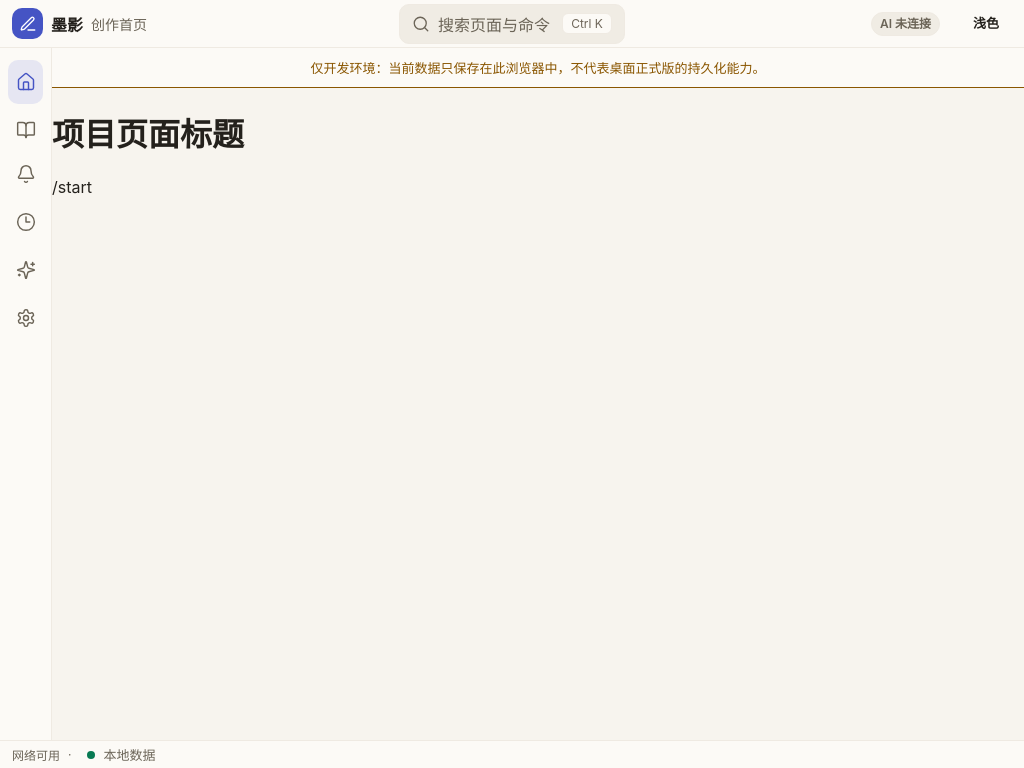
Test case: DesktopShell › labels the appearance switch with both the current and next state
Click the button with aria-label "当前浅色外观，切换到深色外观": x=986, y=24 [960,8,1012,39]
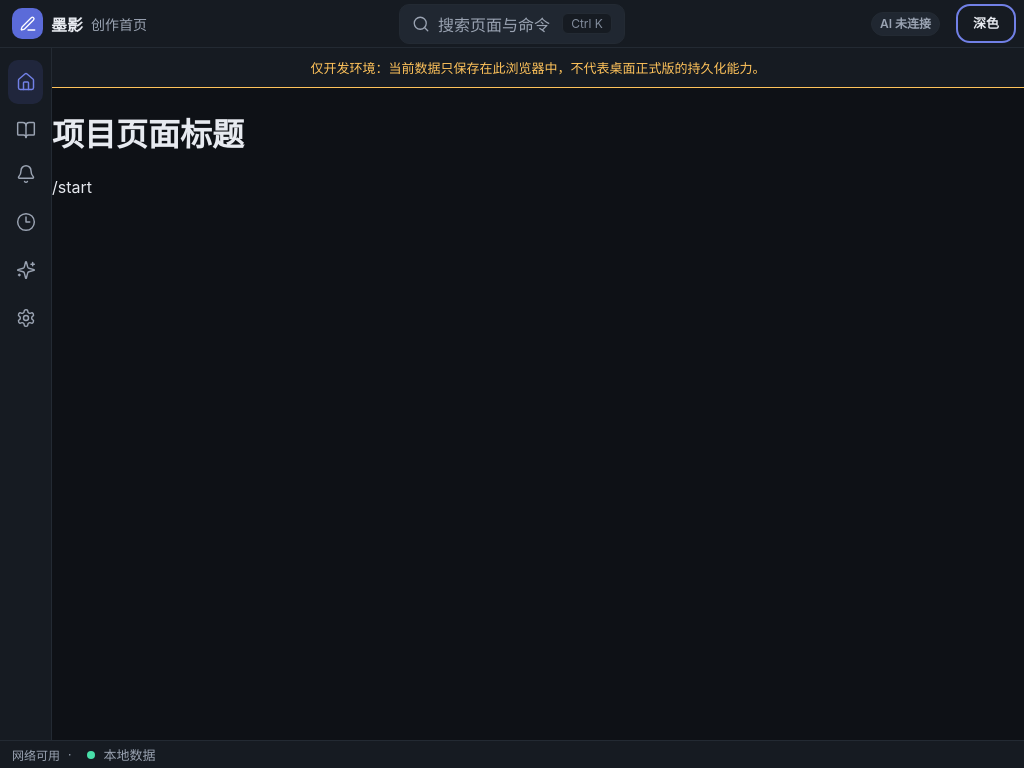
Expected: the button with aria-label "当前深色外观，切换到浅色外观" reads "深色", [960,8,1012,39]
